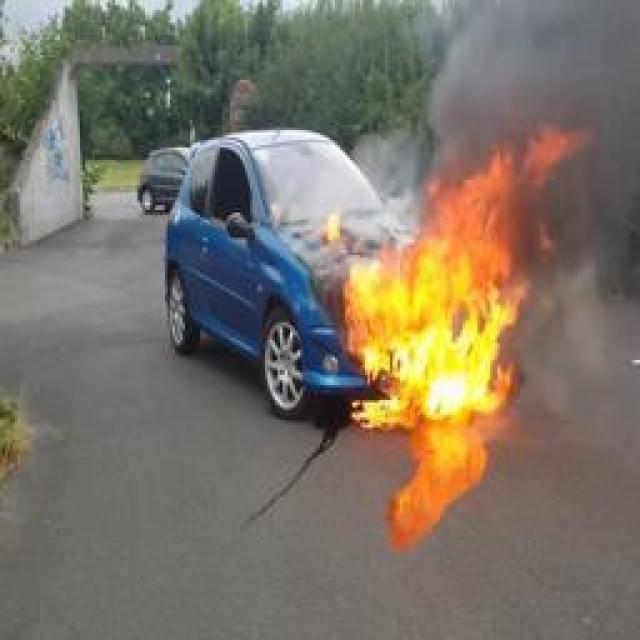Fire: (328, 126, 592, 429)
